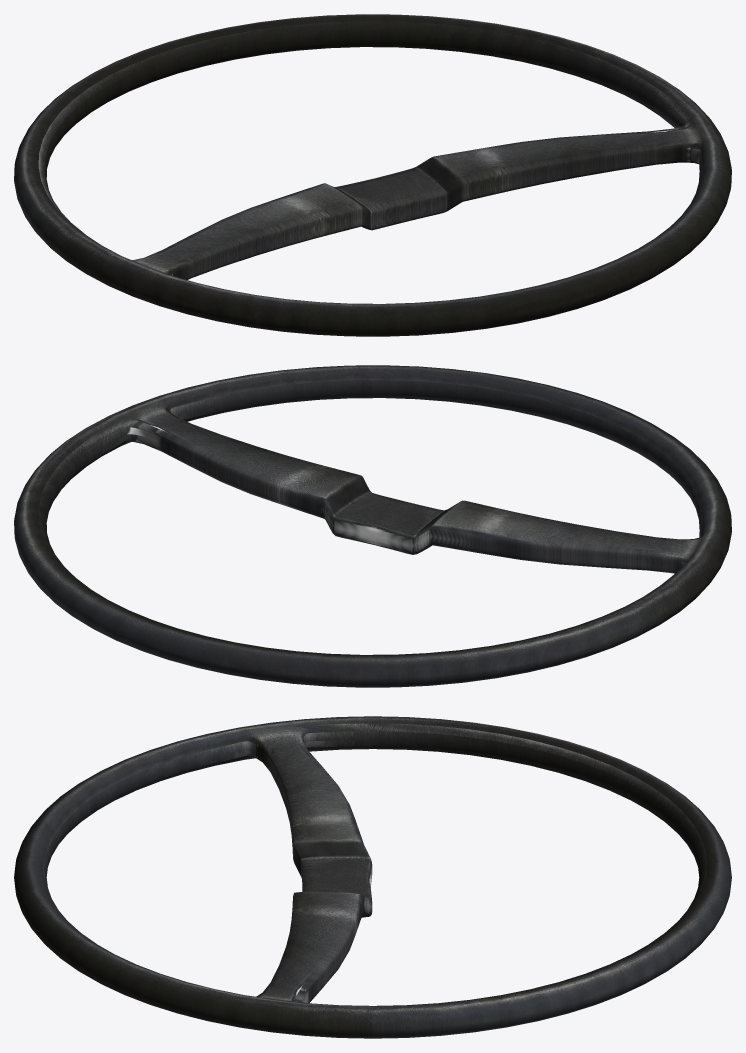
The model's file is BS4stear.glb.
The picture shows the model from 3 angles, top to bottom: view 1: azimuth 30°, elevation 25°; view 2: azimuth 150°, elevation 25°; view 3: azimuth 270°, elevation 25°; orthographic projection.
Parts seen in each view (by area): view 1: Circle; view 2: Circle; view 3: Circle.
Part boxes in pixels (x1,y1,x2,y2): Circle: (14,14,731,336); Circle: (14,365,731,687); Circle: (14,716,731,1038).
Bounding box in the file's own units: 3.28 × 0.1875 × 3.28.
Materials: 1 (1 with a texture image).
